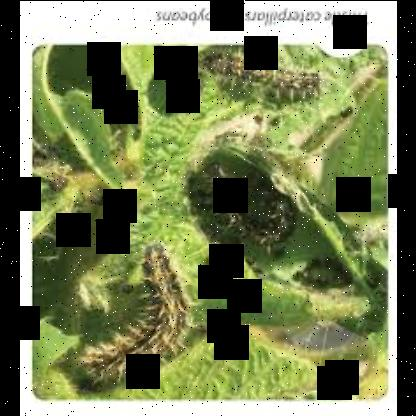oruga: (76, 232, 190, 385), (199, 156, 299, 252), (193, 45, 330, 111), (25, 136, 76, 214)
